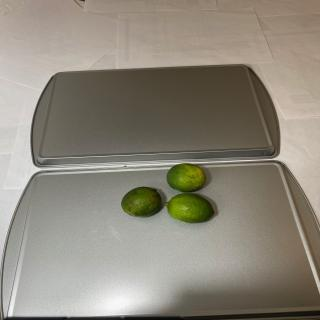Chilli: (121, 186, 161, 217), (166, 162, 206, 192)
Lemon: (164, 193, 214, 223)
